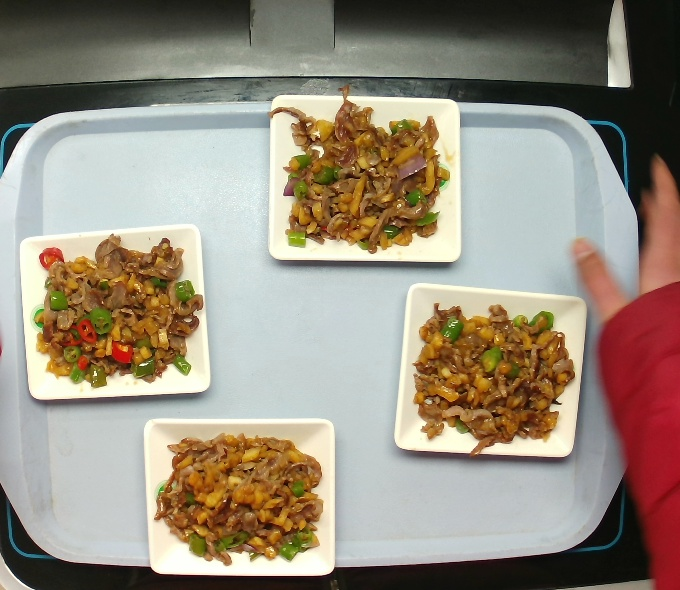wcq-ZhaCaiChaoJiZhen: (398, 295, 586, 456), (140, 422, 340, 569), (275, 93, 450, 258), (28, 232, 199, 390)
